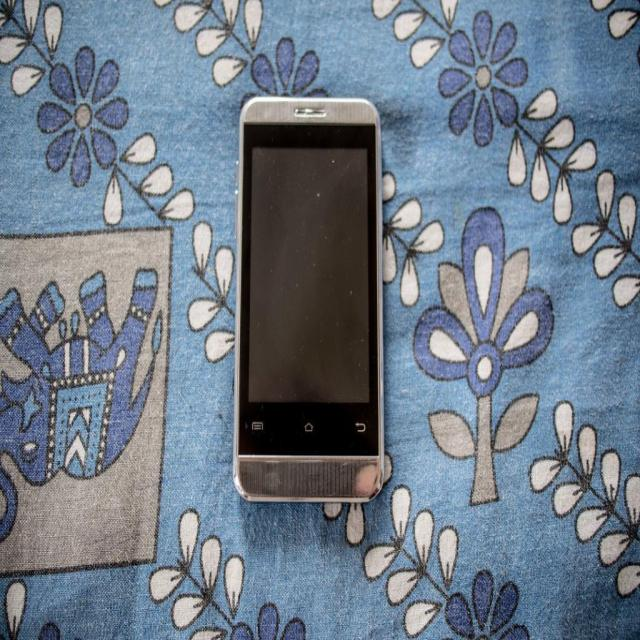Phone: (232, 95, 385, 508)
